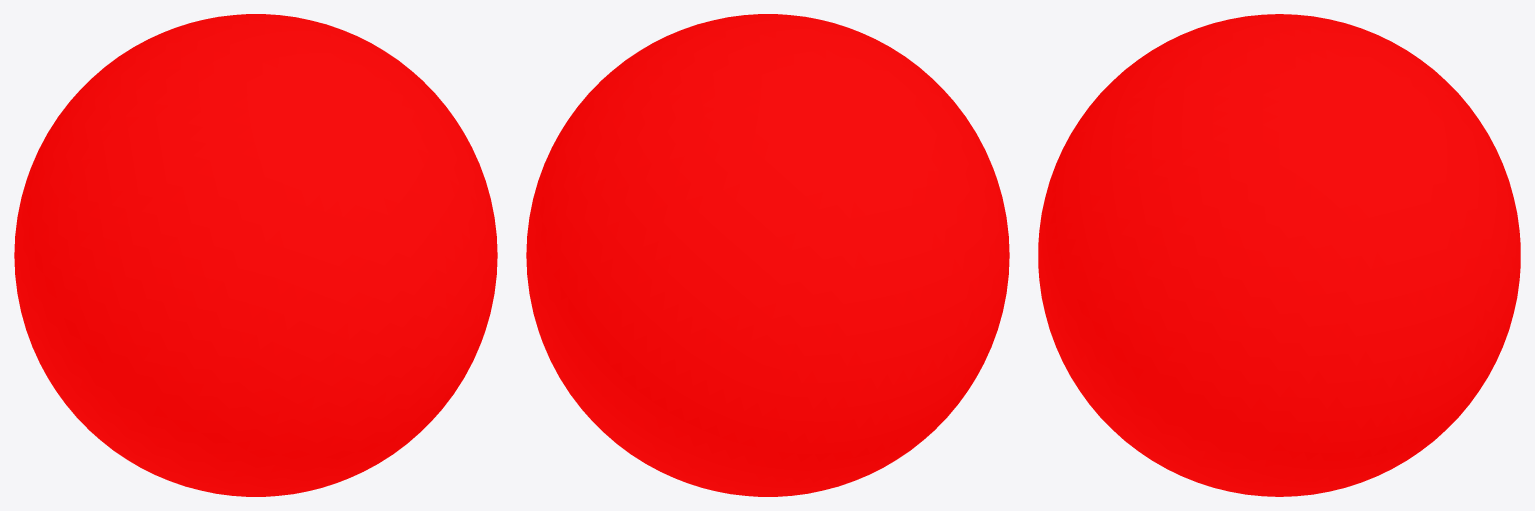
File: RedBall.glb
3 renders of one model, left to right at view 1: azimuth 30°, elevation 25°; view 2: azimuth 150°, elevation 25°; view 3: azimuth 270°, elevation 25°, orthographic.
Size of the model in its own units: 2 by 2 by 2.
